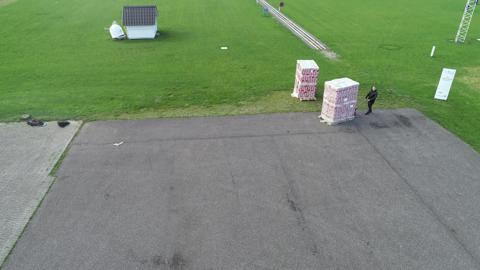RockwoolPallet: (294, 61, 317, 97)
